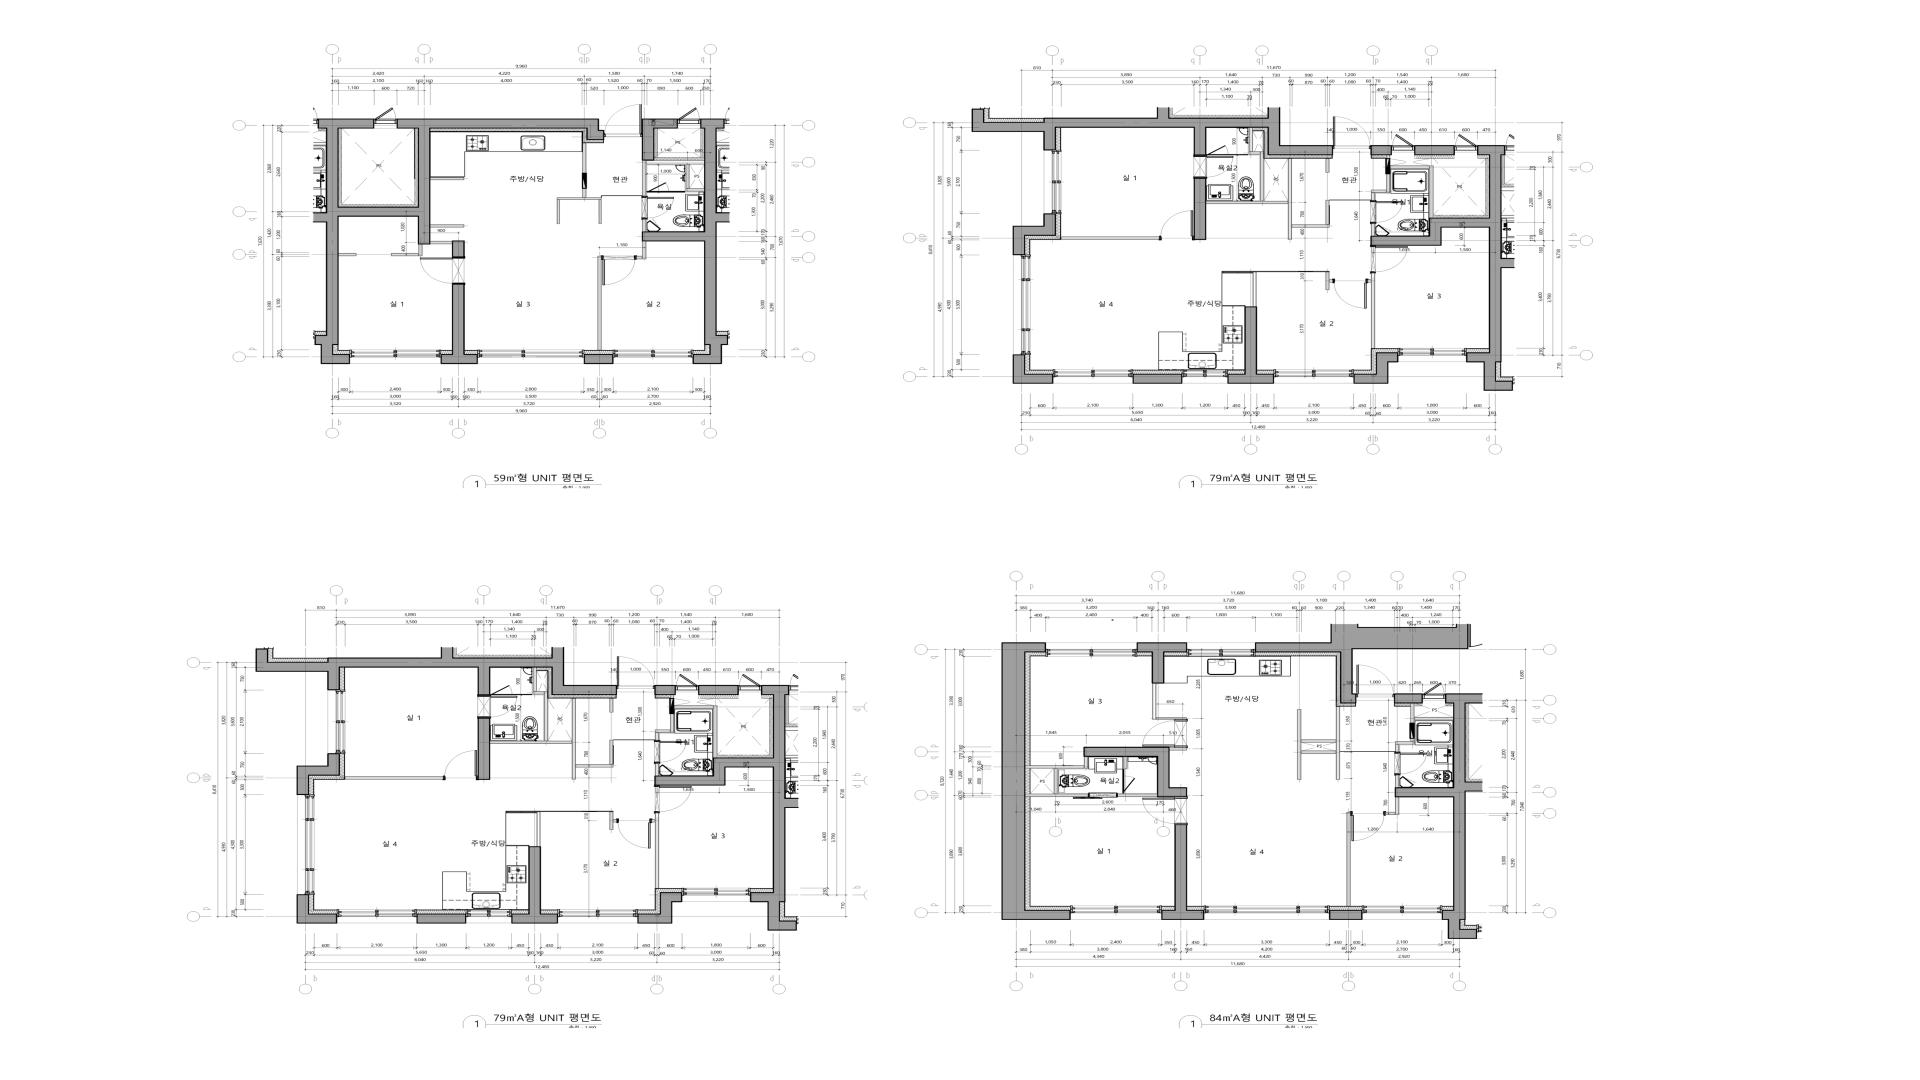door: (617, 655, 655, 689), (1333, 115, 1371, 149), (1141, 797, 1188, 824), (604, 104, 642, 137), (1356, 664, 1394, 697), (420, 257, 464, 283), (602, 255, 637, 286), (1333, 279, 1368, 310), (1350, 811, 1386, 841), (443, 749, 477, 780), (617, 819, 651, 850), (1371, 246, 1410, 273), (655, 786, 693, 813), (1160, 209, 1193, 240), (477, 695, 518, 718), (1193, 155, 1234, 178), (1394, 752, 1428, 776), (654, 740, 687, 764), (641, 196, 674, 219), (1371, 201, 1403, 224), (1423, 682, 1446, 700), (1123, 769, 1137, 794), (1073, 793, 1118, 799), (647, 181, 669, 193), (491, 685, 513, 695), (1207, 145, 1229, 155)
wall: (315, 119, 604, 364), (1371, 145, 1506, 362), (654, 685, 789, 902), (1395, 694, 1483, 939), (642, 118, 728, 364), (1002, 642, 1071, 920), (1255, 624, 1468, 703), (1206, 128, 1330, 240), (490, 668, 613, 780), (327, 657, 616, 695), (1043, 118, 1333, 155), (1083, 747, 1187, 797), (1161, 825, 1204, 920), (511, 847, 558, 924), (1227, 307, 1274, 384), (1297, 707, 1340, 780), (441, 283, 478, 364), (1025, 757, 1089, 797), (1391, 165, 1434, 218), (642, 160, 705, 196), (675, 705, 717, 758), (1137, 642, 1187, 684), (297, 753, 340, 795), (1013, 214, 1056, 255), (557, 189, 602, 224), (642, 118, 678, 161), (637, 892, 682, 924), (1354, 352, 1399, 384), (1152, 684, 1187, 719), (296, 895, 337, 924), (1013, 355, 1053, 384), (1193, 178, 1206, 240), (477, 718, 490, 780), (1411, 704, 1453, 723), (1368, 273, 1375, 348), (652, 813, 659, 888), (416, 914, 466, 924), (1371, 174, 1390, 200), (655, 714, 674, 740), (1133, 374, 1182, 384), (1414, 145, 1455, 155), (698, 685, 739, 695), (345, 776, 443, 780), (1346, 812, 1350, 907), (597, 256, 601, 350), (391, 245, 422, 256), (1329, 910, 1363, 920), (583, 354, 613, 364), (1061, 237, 1159, 240), (1301, 743, 1336, 751), (1394, 694, 1423, 703), (1395, 739, 1415, 751), (1386, 797, 1399, 815), (1370, 145, 1392, 155), (654, 685, 676, 695), (1222, 271, 1330, 273), (505, 811, 613, 813), (452, 241, 465, 257), (637, 241, 646, 259), (1253, 272, 1257, 307), (431, 224, 464, 228), (1326, 272, 1333, 290), (610, 812, 617, 830), (582, 143, 586, 173), (1118, 794, 1157, 797), (537, 812, 540, 847), (430, 177, 464, 180), (1169, 747, 1187, 751), (430, 241, 452, 244), (1371, 224, 1376, 236), (1395, 775, 1400, 787), (1123, 757, 1128, 769), (1326, 159, 1330, 173), (655, 764, 660, 775), (338, 253, 356, 256), (642, 219, 646, 232), (609, 699, 613, 712), (670, 695, 674, 698), (1387, 155, 1390, 158)
window: (1013, 255, 1031, 355), (297, 795, 314, 895), (1204, 906, 1329, 919), (478, 350, 584, 364), (349, 350, 441, 364), (1070, 906, 1162, 920), (1046, 643, 1137, 657), (1362, 906, 1443, 920), (337, 909, 417, 923), (613, 350, 693, 364), (328, 690, 345, 754), (1044, 150, 1061, 214), (558, 910, 638, 923), (1274, 370, 1354, 383), (1053, 370, 1133, 383), (1398, 348, 1467, 362), (1187, 643, 1256, 657), (682, 888, 750, 902), (1182, 370, 1228, 383), (466, 910, 511, 923), (374, 106, 397, 128), (739, 673, 761, 690), (1392, 134, 1415, 150), (677, 108, 700, 124), (676, 674, 698, 690), (1455, 134, 1477, 150)
